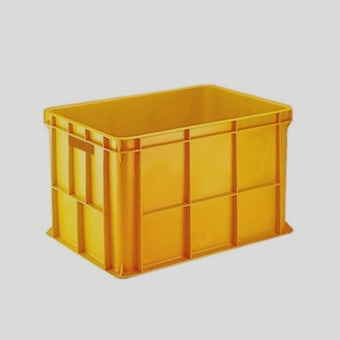plastic: (41, 85, 296, 280)
